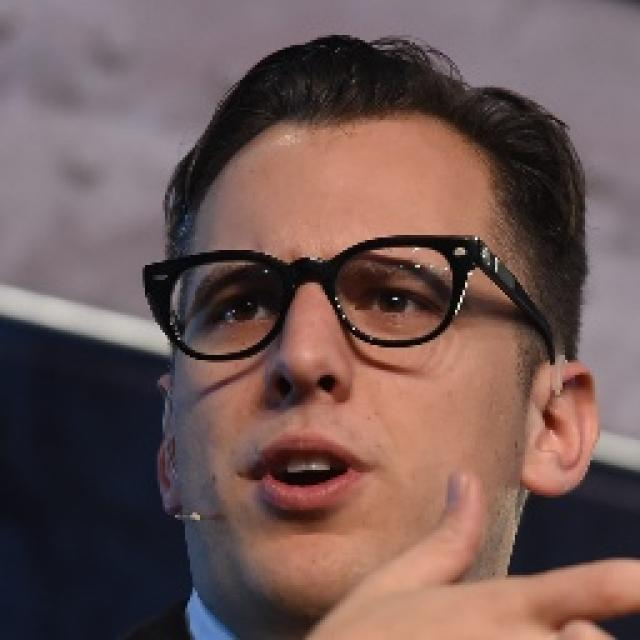earlobe: (522, 447, 566, 498), (157, 469, 181, 516)
eye: (359, 287, 436, 320), (208, 294, 277, 325)
nose: (264, 379, 349, 427)
wholeear: (522, 363, 599, 499), (154, 376, 180, 518)
